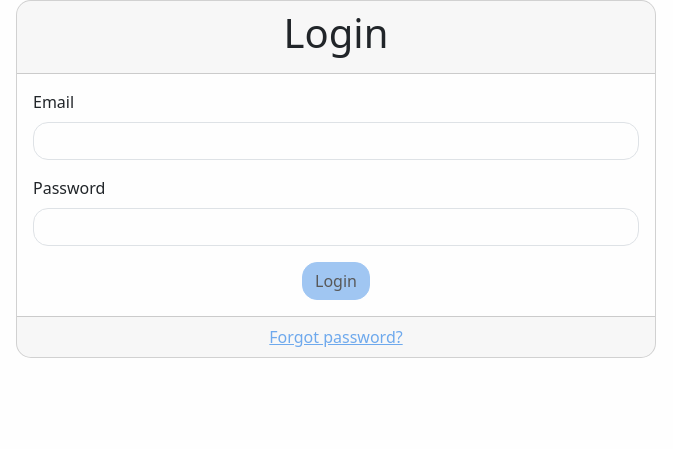
it: Login Page › when user sets same value for inputs › when user submits form › when network failure occurs › displays message generic error message
This screenshot has width=673, height=449.
Type "user1@mail.com" into the field labelled "Email" at x=336, y=141, box [33, 122, 639, 160]
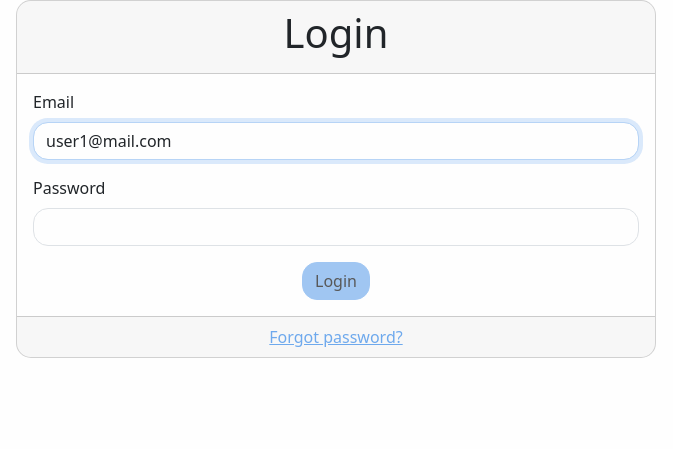
Type "P4ssword" into the password field labelled "Password" at x=336, y=227, box [33, 208, 639, 246]
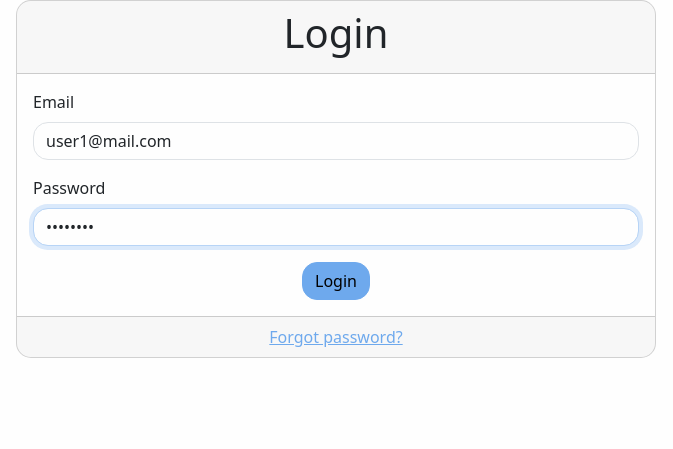
Click the button "Login" at x=336, y=281, box [302, 262, 370, 300]
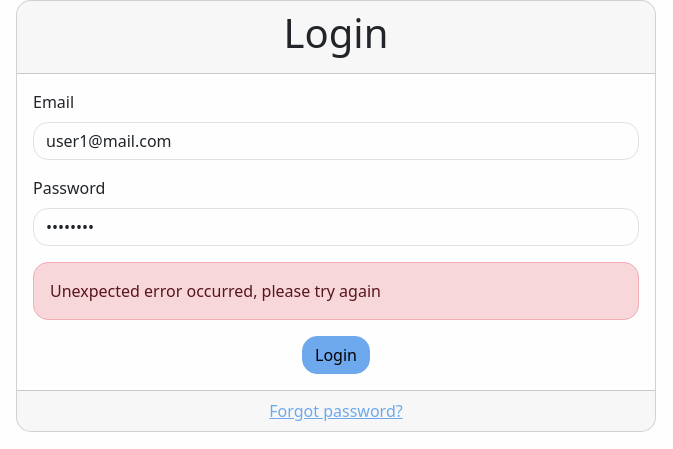
Expected: the text "Unexpected error occurred, please try again" is shown, [33, 262, 639, 320]
